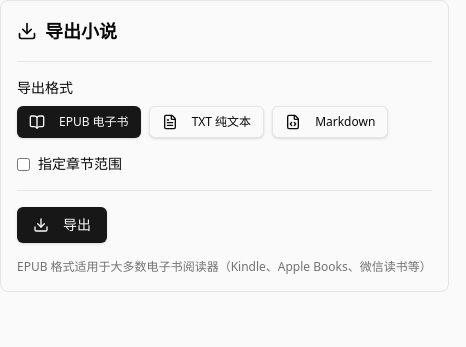
Scenario: ExportPanel › shows range inputs when toggle checked
# Toggle range
Click the checkbox with test id "range-toggle" at [24, 164], box [17,158,30,170]
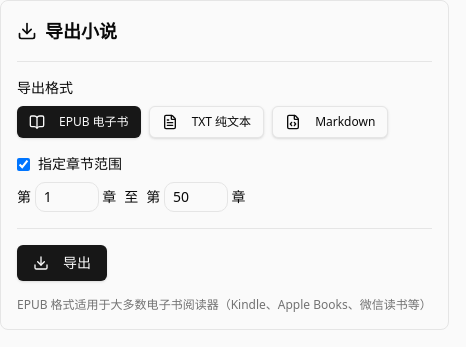
Check: the number field with test id "start-chapter" is shown, box [35,182,99,212]
Check: the number field with test id "end-chapter" is shown, box [164,182,228,212]
